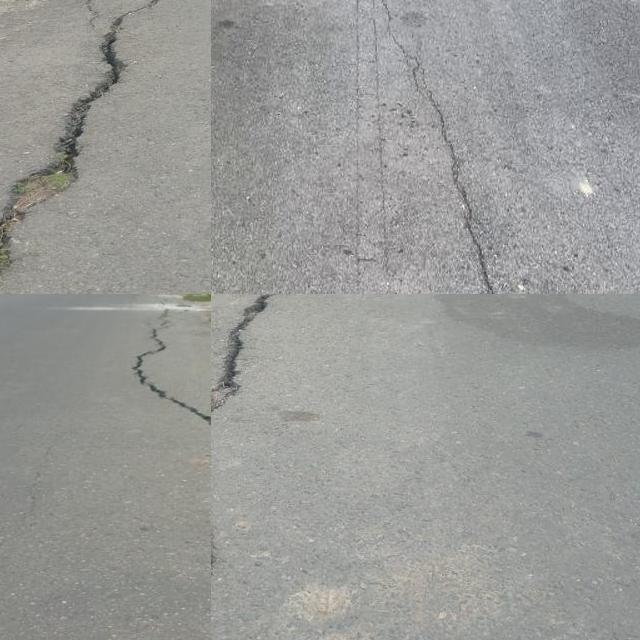Memanjang: (0, 0, 190, 294), (366, 0, 510, 294), (211, 294, 306, 640), (112, 294, 211, 490)
